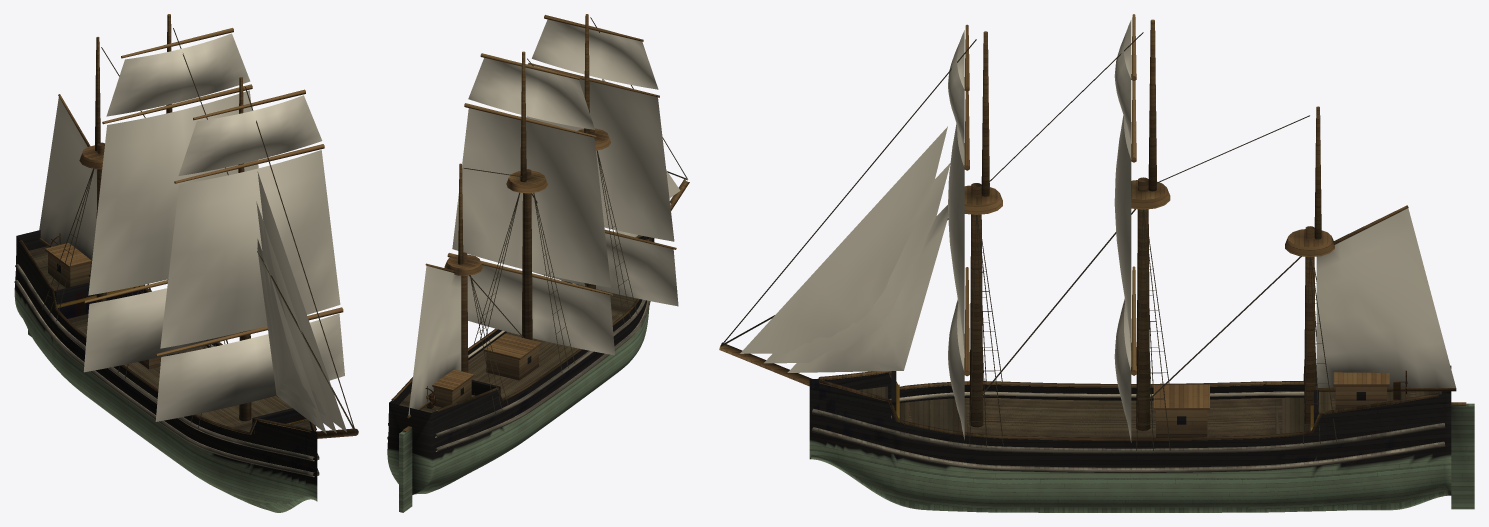
The model's file is model_built.glb.
3 views of the same model, side by side, from view 1: azimuth 30°, elevation 25°; view 2: azimuth 150°, elevation 25°; view 3: azimuth 270°, elevation 25° (orthographic). The views are drawn at different scales.
Visible parts, largest first — view 1: sails, hull, rig, rigging; view 2: sails, hull, rig, rigging; view 3: hull, sails, rig, rigging.
Part boxes in pixels (box(x1,y1,x2,y2)): sails: box(39, 33, 346, 433); hull: box(14, 230, 319, 512); rig: box(39, 14, 358, 438); rigging: box(42, 28, 355, 432); sails: box(408, 19, 680, 415); hull: box(387, 235, 654, 512); rig: box(407, 14, 689, 418); rigging: box(463, 17, 687, 415); hull: box(809, 365, 1474, 512); sails: box(740, 20, 1455, 442); rig: box(719, 14, 1456, 430); rigging: box(720, 32, 1337, 450).
Bounding box in the file's own units: 15.06 × 32.1 × 44.87.
4 materials, 2 textured.
